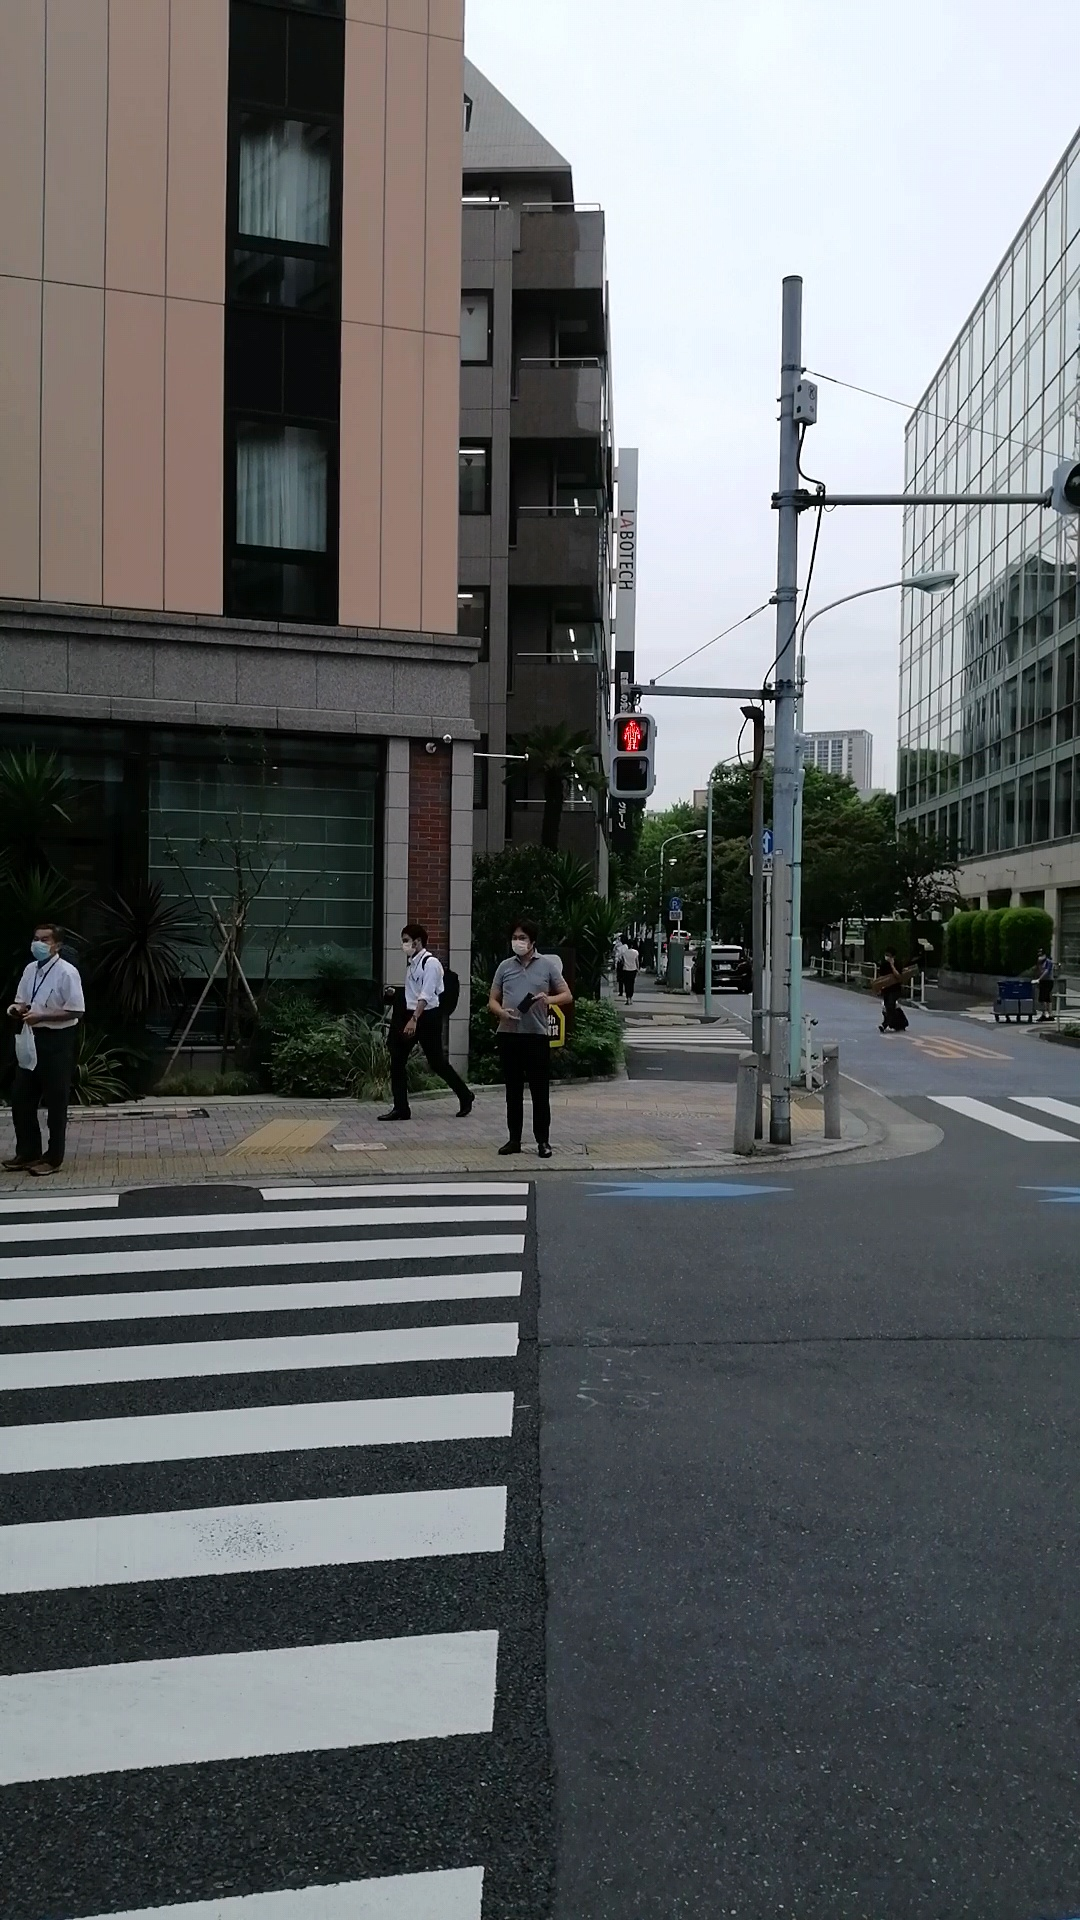red: (608, 711, 655, 800)
